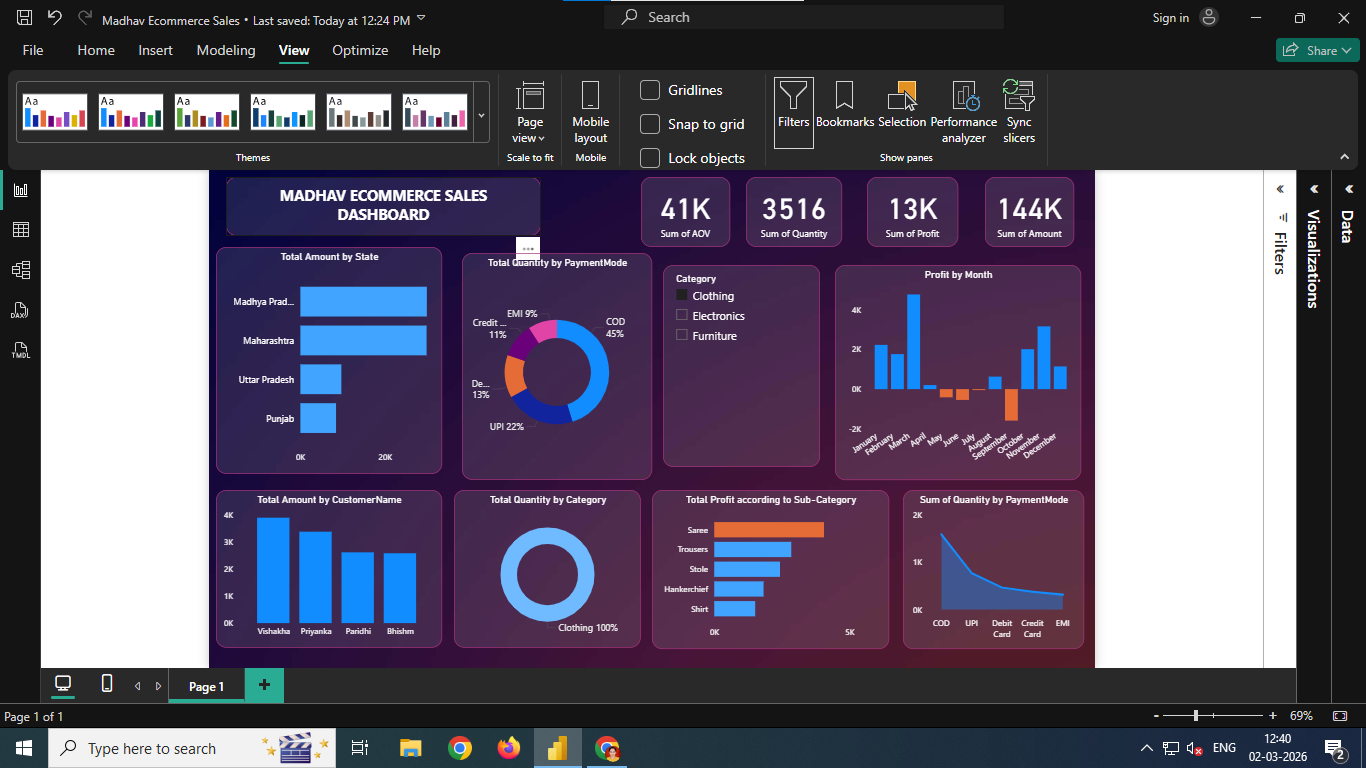

The page's visual inventory and layout, read from the dashboard file:
{"tool":"powerbi","page":{"name":"Page 1","canvas":[1280,720],"ordinal":0},"visuals":[{"type":"textbox","box":[9.6,0,455.6,49.4],"z":0},{"type":"clusteredColumnChart","title":"Profit by Month","fields":{"Y":["Sum(Details.Profit)"],"Category":["Orders.Order Date.Variation.Date Hierarchy.Month"]},"box":[672.4,78.2,585.9,360.9],"z":1000},{"type":"barChart","fields":{"Category":["Details.Sub-Category"],"Y":["Sum(Details.Profit)"]},"box":[673.8,462.4,585.9,229.2],"z":2000},{"type":"donutChart","fields":{"Category":["Details.Category"],"Y":["Sum(Details.Quantity)"]},"box":[377.4,462.4,270.3,229.2],"z":3000},{"type":"donutChart","fields":{"Y":["Sum(Details.Quantity)"],"Category":["Details.PaymentMode"]},"box":[373.2,201.7,274.4,237.4],"z":4000},{"type":"card","fields":{"Values":["Sum(Details.Amount)"]},"box":[9.7,78.4,129.1,101.3],"z":5000},{"type":"card","fields":{"Values":["Sum(Details.Profit)"]},"box":[152,78.4,131.5,101.3],"z":6000},{"type":"card","fields":{"Values":["Sum(Details.Quantity)"]},"box":[304,78.4,138.7,101.3],"z":7000},{"type":"card","fields":{"Values":["Sum(Details.AOV)"]},"box":[465.7,78.4,129.1,101.3],"z":8000},{"type":"barChart","fields":{"Category":["Orders.State"],"Y":["Sum(Details.Amount)"]},"box":[16.5,201.7,326.6,237.4],"z":9000},{"type":"columnChart","fields":{"Category":["Orders.CustomerName"],"Y":["Sum(Details.Amount)"]},"box":[16.5,462.4,326.6,229.2],"z":10000}]}

Visuals, with their boxes on the page's 1280x720 design canvas (x1, y1, x2, y2). These are canvas units, not pixel positions in the 1366x768 screenshot, which may show the page scaled, cropped or inside an application window:
textbox: bbox=[10, 0, 465, 49]
"Profit by Month" clusteredColumnChart: bbox=[672, 78, 1258, 439]
barChart - Details.Sub-Category x Sum(Details.Profit): bbox=[674, 462, 1260, 692]
donutChart - Details.Category x Sum(Details.Quantity): bbox=[377, 462, 648, 692]
donutChart - Sum(Details.Quantity) x Details.PaymentMode: bbox=[373, 202, 648, 439]
card - Sum(Details.Amount): bbox=[10, 78, 139, 180]
card - Sum(Details.Profit): bbox=[152, 78, 284, 180]
card - Sum(Details.Quantity): bbox=[304, 78, 443, 180]
card - Sum(Details.AOV): bbox=[466, 78, 595, 180]
barChart - Orders.State x Sum(Details.Amount): bbox=[16, 202, 343, 439]
columnChart - Orders.CustomerName x Sum(Details.Amount): bbox=[16, 462, 343, 692]
